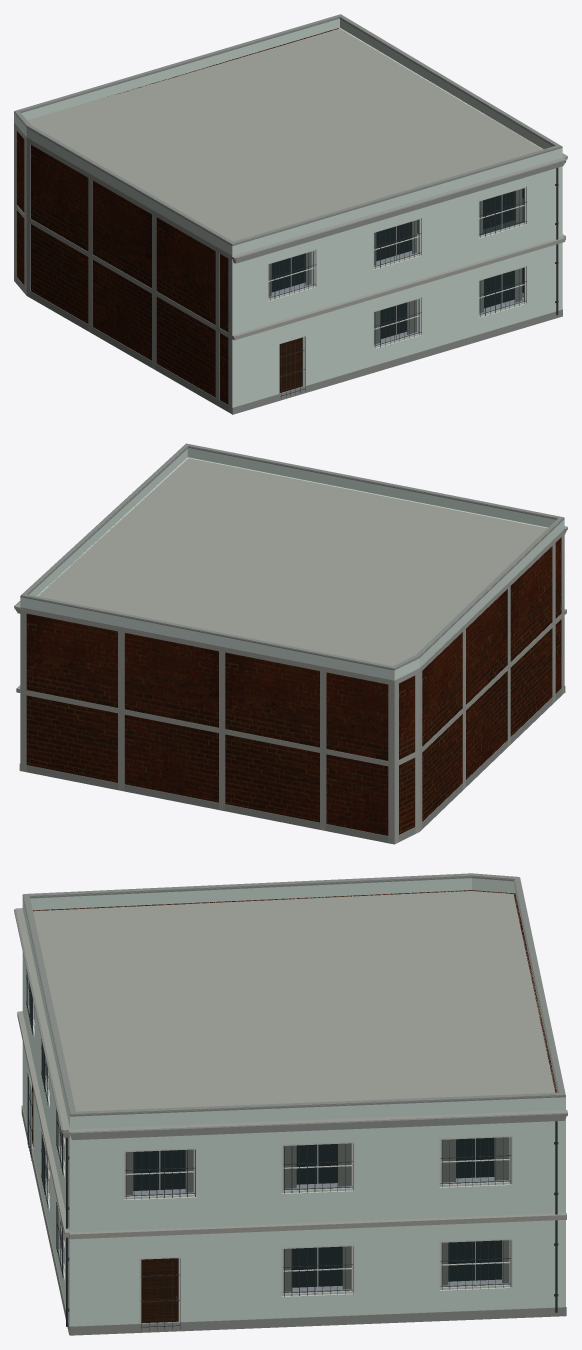
The model's file is building.glb.
The picture shows the model from 3 angles, top to bottom: view 1: azimuth 30°, elevation 25°; view 2: azimuth 150°, elevation 25°; view 3: azimuth 270°, elevation 25°; orthographic projection. The views are drawn at different scales.
Visible parts, largest first — view 1: roof/main:0/roof_slab#0001, main:0/edge1/z0/main:0/edge1/z0/wall_0_0/core0, main:0/edge0/z0/main:0/edge0/z0/wall_0_0, roof/main:0/parapet#0001, roof/main:0/parapet_cap#0002, main:0/edge1/z0/plinth#0001, roof/main:0/parapet_cap#0001, main:0/edge1/z0/floor_slab#0001, main:0/edge1/z0/opening_u11.19_v0.95/glazing#0001, main:0/edge1/z0/opening_u1.61_v4.20/glazing#0001, main:0/edge1/z0/opening_u11.19_v4.20/glazing#0001, main:0/edge0/z0/plinth#0001 (+18 smaller); view 2: roof/main:0/roof_slab#0001, main:0/edge3/z0/main:0/edge3/z0/wall_0_0, main:0/edge0/z0/main:0/edge0/z0/wall_0_0, roof/main:0/parapet#0001, roof/main:0/parapet_cap#0002, main:0/edge3/z0/plinth#0001, main:0/edge4/z0/main:0/edge4/z0/wall_0_0, roof/main:0/parapet_cap#0001, main:0/edge3/z0/main:0/edge3/z0/beam_0_0, main:0/edge3/z0/main:0/edge3/z0/beam_1_0, main:0/edge0/z0/plinth#0001, main:0/edge0/z0/main:0/edge0/z0/beam_0_0 (+12 smaller); view 3: roof/main:0/roof_slab#0001, main:0/edge2/z0/main:0/edge2/z0/wall_0_0/core0, roof/main:0/parapet#0001, roof/main:0/parapet_cap#0002, main:0/edge2/z0/plinth#0001, main:0/edge1/z0/main:0/edge1/z0/wall_0_0/core0, main:0/edge2/z0/floor_slab#0001, roof/main:0/parapet_cap#0001, main:0/edge2/z0/opening_u10.62_v0.95/glazing#0001, main:0/edge2/z0/opening_u10.62_v4.20/glazing#0001, main:0/edge2/z0/opening_u1.54_v4.20/glazing#0001, main:0/edge2/z0/opening_u6.08_v4.20/glazing#0001 (+23 smaller).
Boxes of the visible parts, x1,y1,x2,y2 form: roof/main:0/roof_slab#0001: [14, 28, 543, 257]; main:0/edge1/z0/main:0/edge1/z0/wall_0_0/core0: [232, 166, 562, 407]; main:0/edge0/z0/main:0/edge0/z0/wall_0_0: [31, 145, 228, 404]; roof/main:0/parapet#0001: [14, 18, 562, 255]; roof/main:0/parapet_cap#0002: [14, 14, 561, 244]; main:0/edge1/z0/plinth#0001: [232, 309, 562, 414]; roof/main:0/parapet_cap#0001: [14, 17, 562, 245]; main:0/edge1/z0/floor_slab#0001: [232, 237, 565, 340]; main:0/edge1/z0/opening_u11.19_v0.95/glazing#0001: [479, 267, 524, 314]; main:0/edge1/z0/opening_u1.61_v4.20/glazing#0001: [268, 251, 313, 298]; main:0/edge1/z0/opening_u11.19_v4.20/glazing#0001: [479, 188, 524, 235]; main:0/edge0/z0/plinth#0001: [27, 291, 231, 413]; roof/main:0/roof_slab#0001: [20, 458, 563, 683]; main:0/edge3/z0/main:0/edge3/z0/wall_0_0: [26, 613, 388, 835]; main:0/edge0/z0/main:0/edge0/z0/wall_0_0: [422, 537, 561, 821]; roof/main:0/parapet#0001: [20, 448, 564, 680]; roof/main:0/parapet_cap#0002: [21, 443, 563, 668]; main:0/edge3/z0/plinth#0001: [26, 765, 394, 843]; main:0/edge4/z0/main:0/edge4/z0/wall_0_0: [399, 675, 414, 834]; roof/main:0/parapet_cap#0001: [20, 446, 564, 670]; main:0/edge3/z0/main:0/edge3/z0/beam_0_0: [20, 689, 394, 767]; main:0/edge3/z0/main:0/edge3/z0/beam_1_0: [20, 607, 394, 685]; main:0/edge0/z0/plinth#0001: [422, 688, 561, 828]; main:0/edge0/z0/main:0/edge0/z0/beam_0_0: [419, 611, 564, 754]; roof/main:0/roof_slab#0001: [33, 890, 556, 1111]; main:0/edge2/z0/main:0/edge2/z0/wall_0_0/core0: [70, 1119, 565, 1326]; roof/main:0/parapet#0001: [22, 878, 565, 1129]; roof/main:0/parapet_cap#0002: [23, 873, 565, 1114]; main:0/edge2/z0/plinth#0001: [70, 1307, 565, 1335]; main:0/edge1/z0/main:0/edge1/z0/wall_0_0/core0: [22, 952, 69, 1321]; main:0/edge2/z0/floor_slab#0001: [69, 1213, 566, 1239]; roof/main:0/parapet_cap#0001: [22, 876, 565, 1116]; main:0/edge2/z0/opening_u10.62_v0.95/glazing#0001: [441, 1240, 509, 1287]; main:0/edge2/z0/opening_u10.62_v4.20/glazing#0001: [441, 1137, 509, 1184]; main:0/edge2/z0/opening_u1.54_v4.20/glazing#0001: [125, 1149, 193, 1196]; main:0/edge2/z0/opening_u6.08_v4.20/glazing#0001: [283, 1143, 351, 1190].
Bounding box in the file's own units: 16.59 × 6.97 × 15.85.
10 materials, 2 textured.
